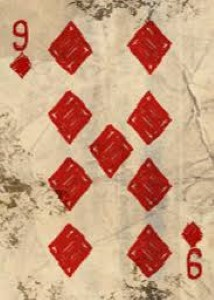NineOfDiamonds: (8, 11, 207, 283)
